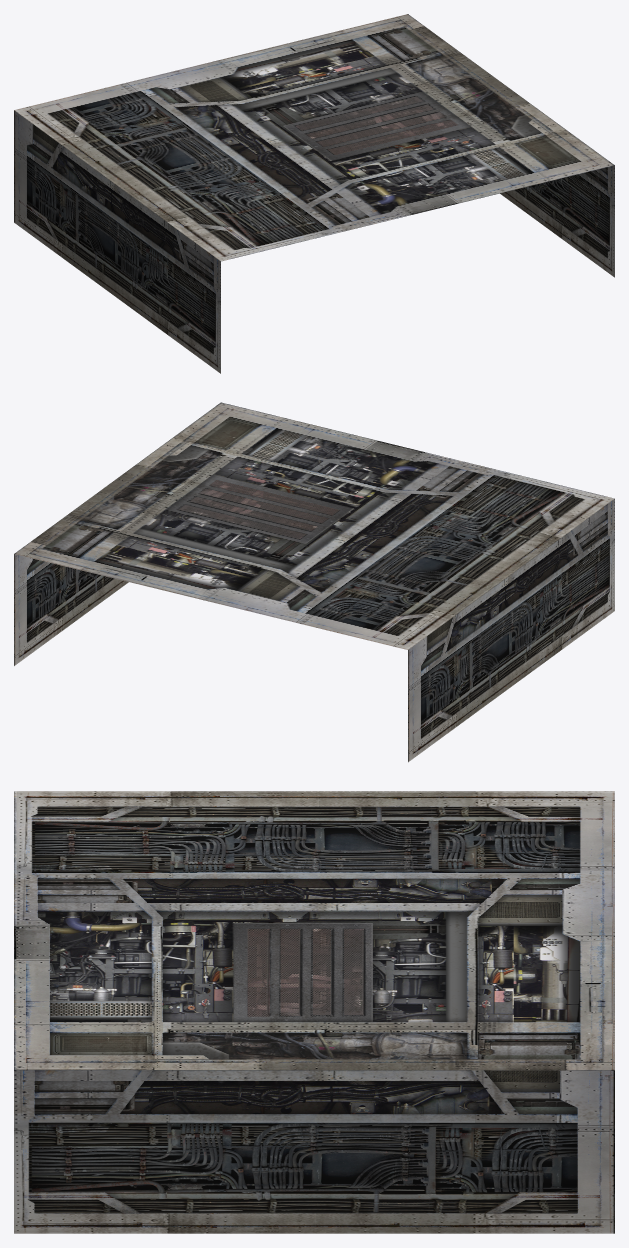
The model's file is ARC_CeilingHigh_Single_Section.FBX.
3 renders of one model, top to bottom at view 1: azimuth 30°, elevation 25°; view 2: azimuth 150°, elevation 25°; view 3: azimuth 270°, elevation 25°, orthographic. The views are drawn at different scales.
Visible parts, largest first — view 1: ARC_CeilingHigh_Single_Section; view 2: ARC_CeilingHigh_Single_Section; view 3: ARC_CeilingHigh_Single_Section.
Part boxes in pixels (bbox=[...]): ARC_CeilingHigh_Single_Section: bbox=[14, 14, 614, 373]; ARC_CeilingHigh_Single_Section: bbox=[14, 402, 614, 762]; ARC_CeilingHigh_Single_Section: bbox=[14, 791, 614, 1233].
Size of the model in its own units: 550 by 150 by 501.
1 material, 1 textured.
